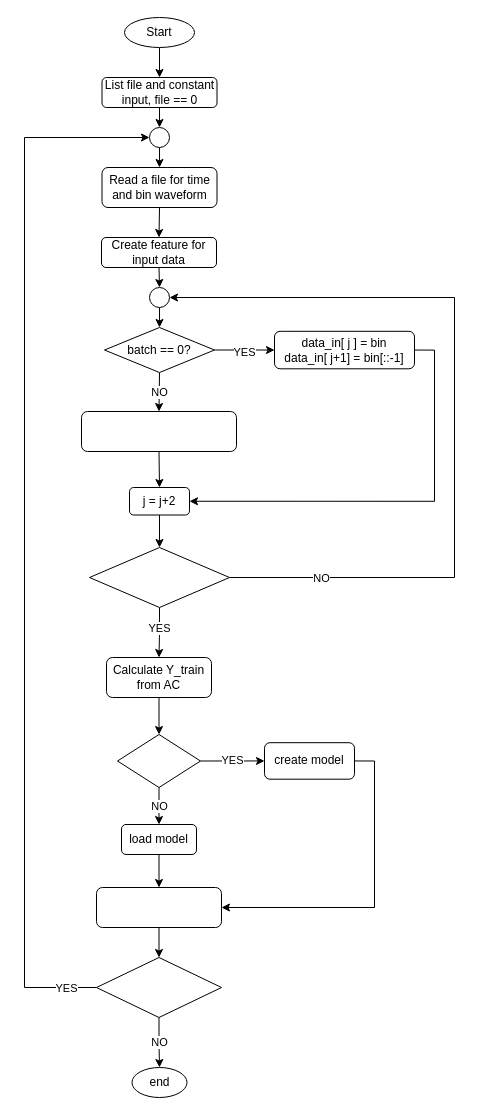
Some shapes in this 480 by 1115 pixel diagram are drawn without their labels. The shapes that lost their labels are listed below. From the top down, each one's box as (x1, y1, x2, y2) in pixels, then its label:
(80, 410, 236, 452): insert 0 in the 0 index and inverse
(88, 546, 230, 608): j > num_batch-1 ?
(116, 734, 200, 788): file == 0?
(96, 886, 222, 928): fit the model and save model
(96, 956, 222, 1018): file < total file?
